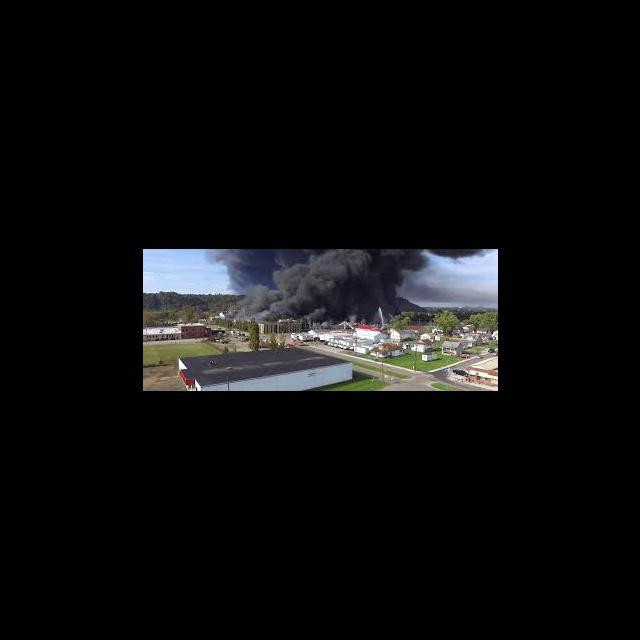Smoke: (209, 249, 424, 316)
